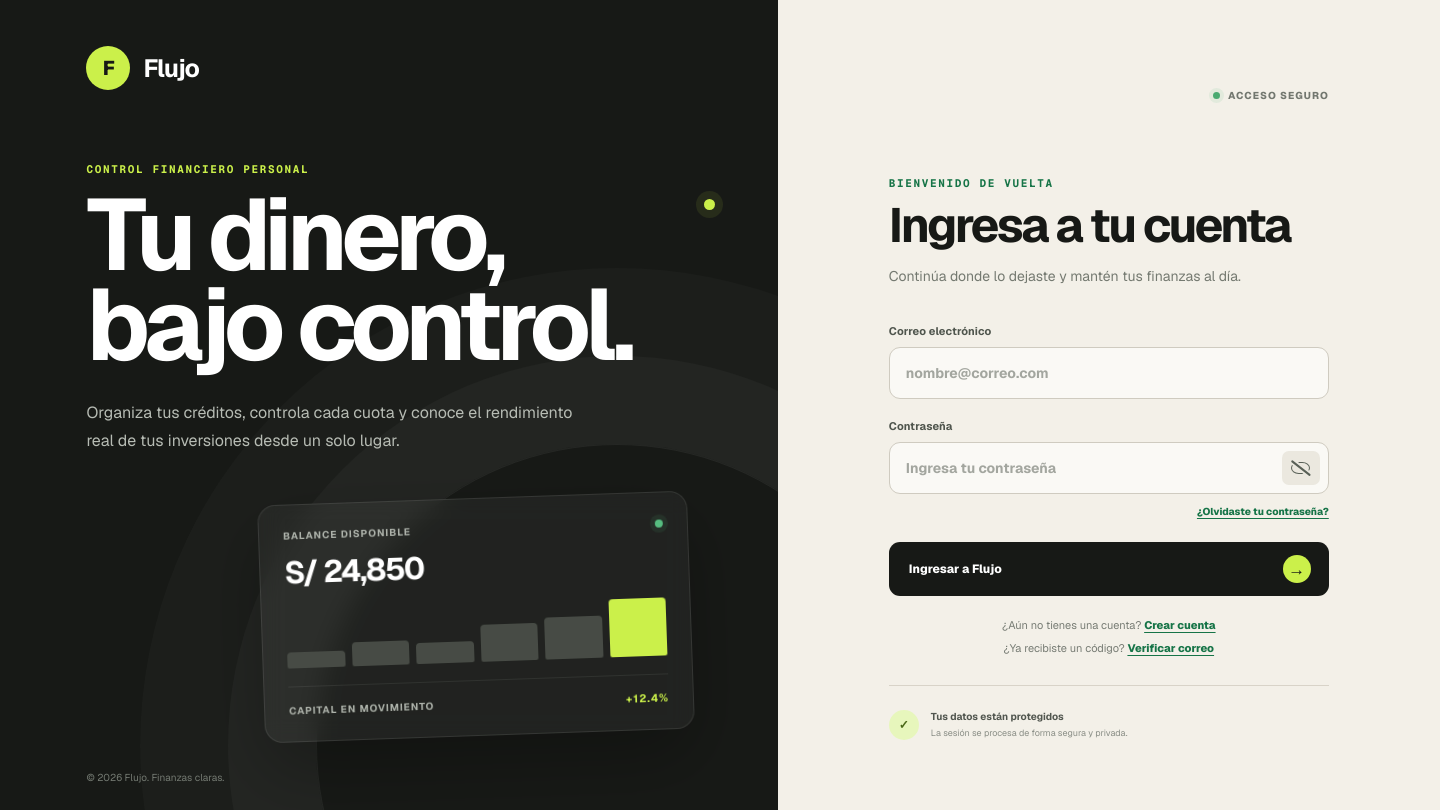
Test: LoginScreen › opens inline verification when the email is pending
Step 1. Type "pending@example.com" into the field labelled "Correo electrónico" → (1109, 373), box [889,347,1329,399]
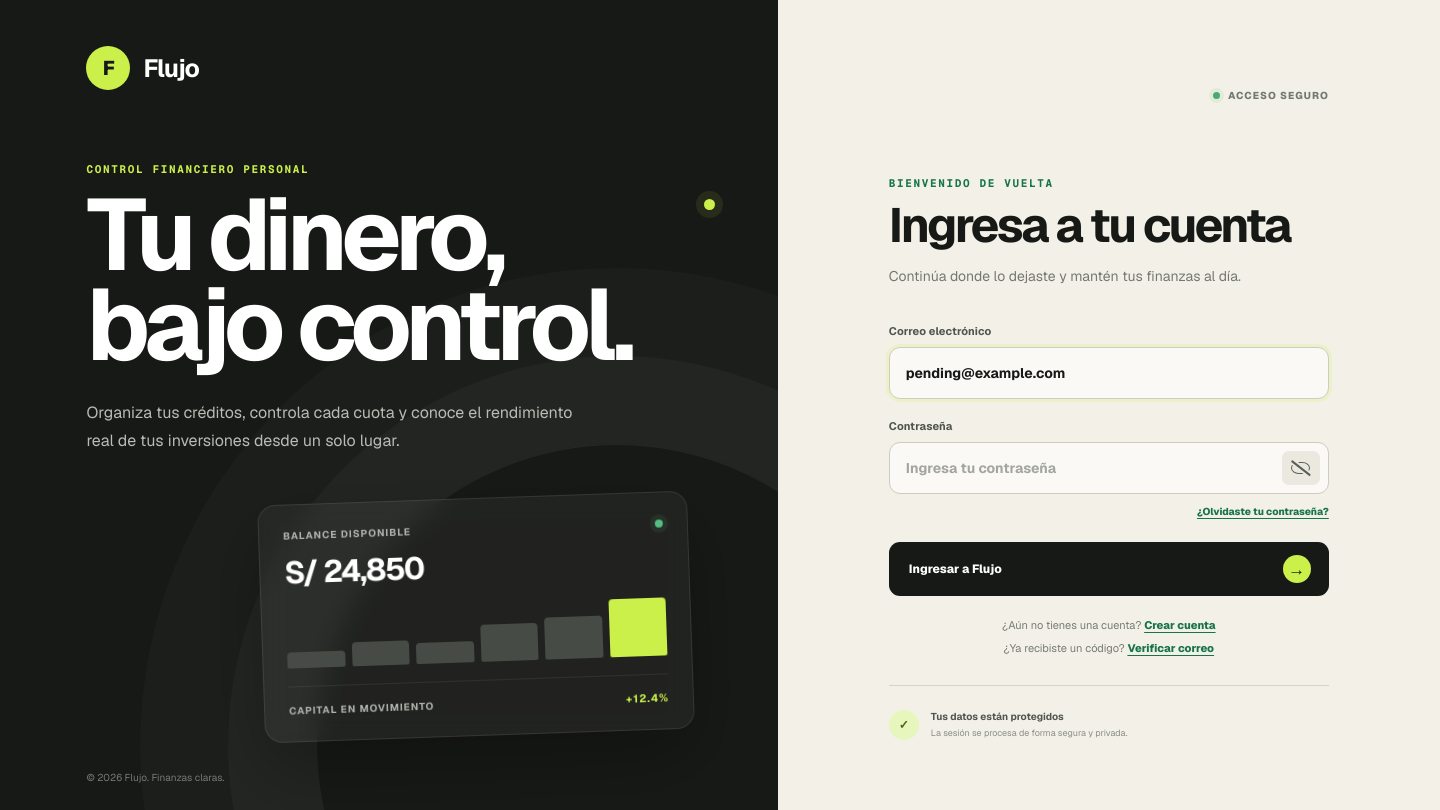
Step 2. Type "Password123!" into the password field labelled "Contraseña" → (1109, 468), box [889,442,1329,494]
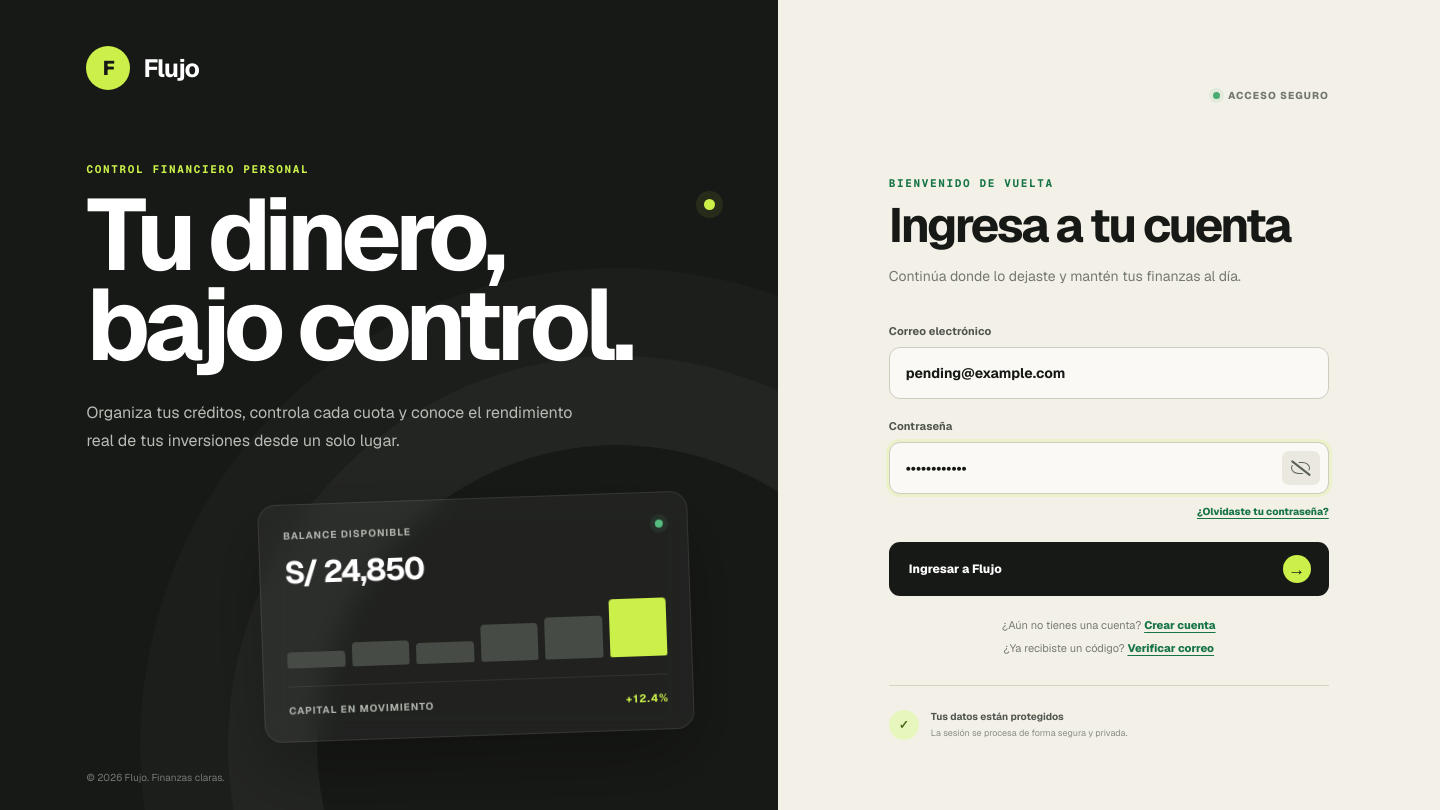
Step 3. Click the button "Ingresar a Flujo →" → click(955, 569), box [889,542,1329,596]
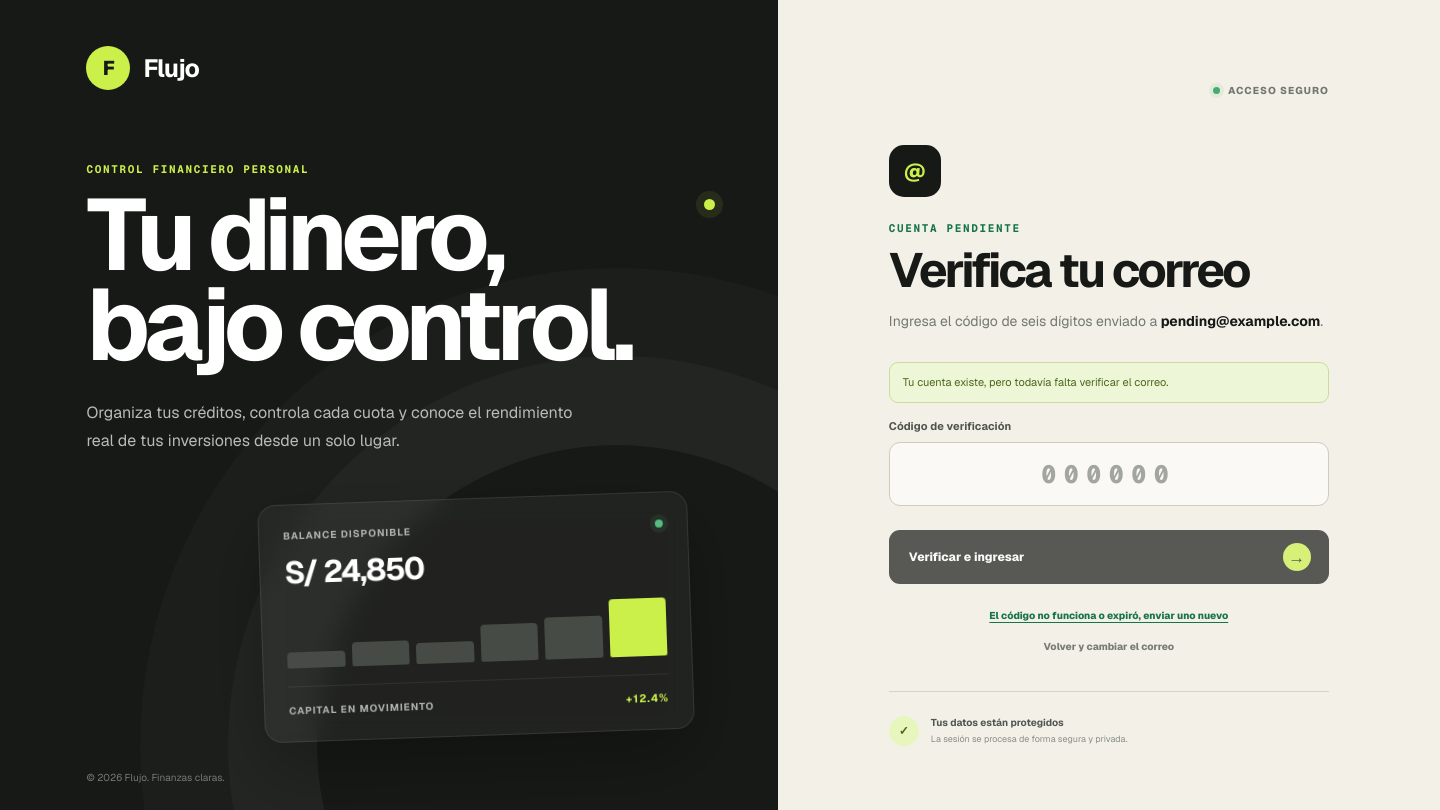
expect the heading "Verifica tu correo" is shown: met, box [889,239,1249,301]
expect the text "pending@example.com" is shown: met, box [1161,312,1320,330]
